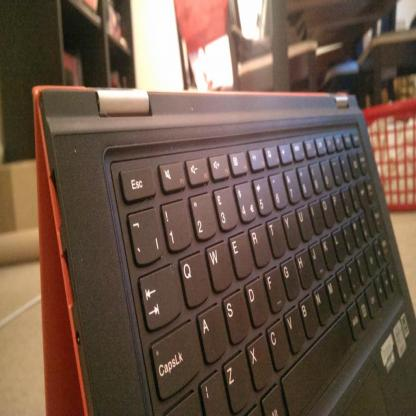board: (32, 86, 416, 416)
